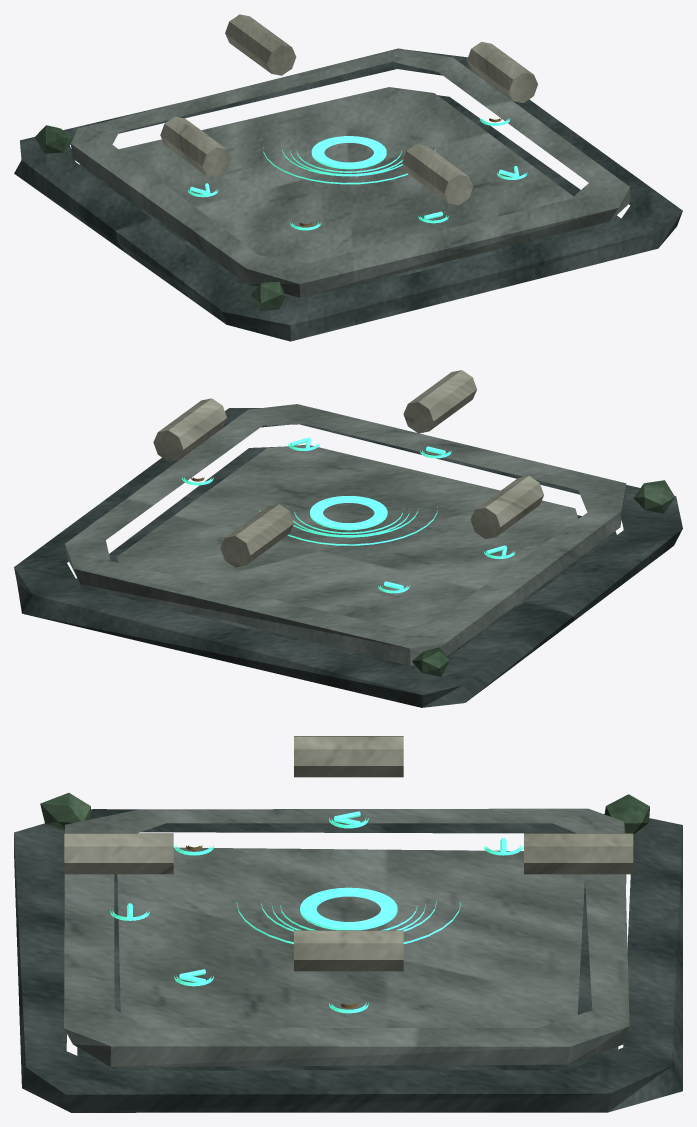
File: 0565_rune_dais_15.glb
3 renders of one model, top to bottom at view 1: azimuth 30°, elevation 25°; view 2: azimuth 150°, elevation 25°; view 3: azimuth 270°, elevation 25°, orthographic. The views are drawn at different scales.
Visible parts, largest first — view 1: stone, stone_dark, stone_light, glow, moss; view 2: stone, stone_dark, stone_light, glow, moss; view 3: stone, stone_dark, stone_light, glow, moss.
Boxes of the visible parts, <box> form: stone: <box>71,48,629,297</box>; stone_dark: <box>14,49,682,341</box>; stone_light: <box>160,14,537,205</box>; glow: <box>188,118,527,230</box>; moss: <box>35,125,284,311</box>; stone: <box>65,404,626,665</box>; stone_dark: <box>14,408,682,707</box>; stone_light: <box>153,370,543,567</box>; glow: <box>182,437,515,593</box>; moss: <box>412,480,674,676</box>; stone: <box>64,808,629,1066</box>; stone_dark: <box>14,809,682,1112</box>; stone_light: <box>64,736,633,971</box>; glow: <box>110,811,523,1013</box>; moss: <box>40,793,649,834</box>.
Bounding box in the file's own units: 3.08 × 0.7083 × 3.06.
6 materials, 6 textured.
